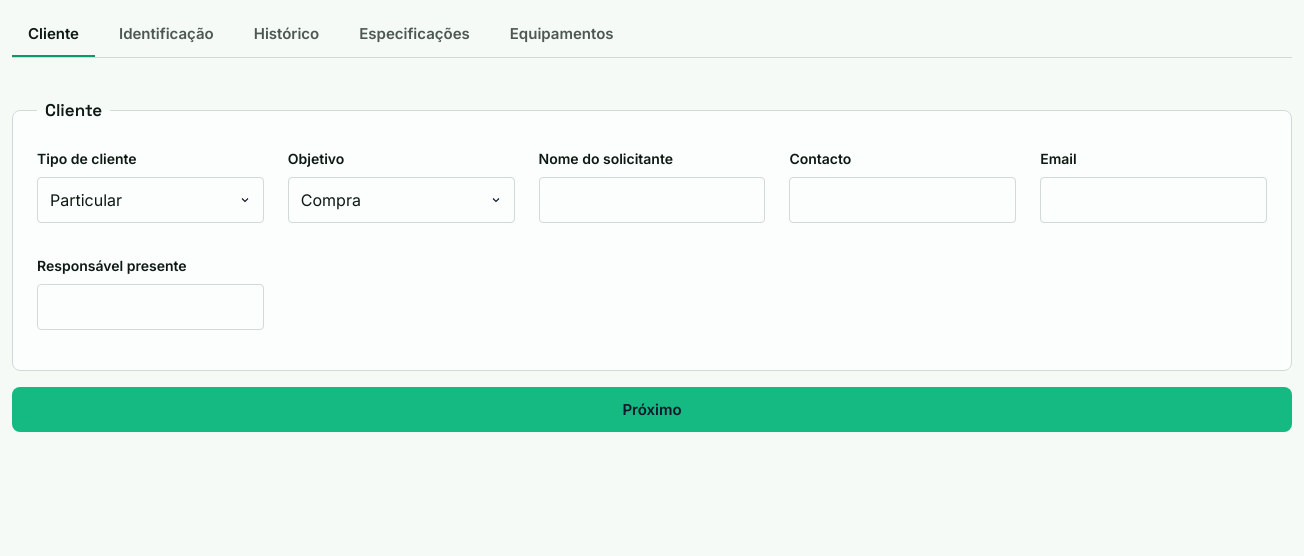
Scenario: NewInspectionForm › re-enables objetivo when switching back to particular
This screenshot has width=1304, height=556.
Step 1. Select "Stand" in the dropdown labelled "Tipo de cliente" → (150, 200), box [37,176,264,222]
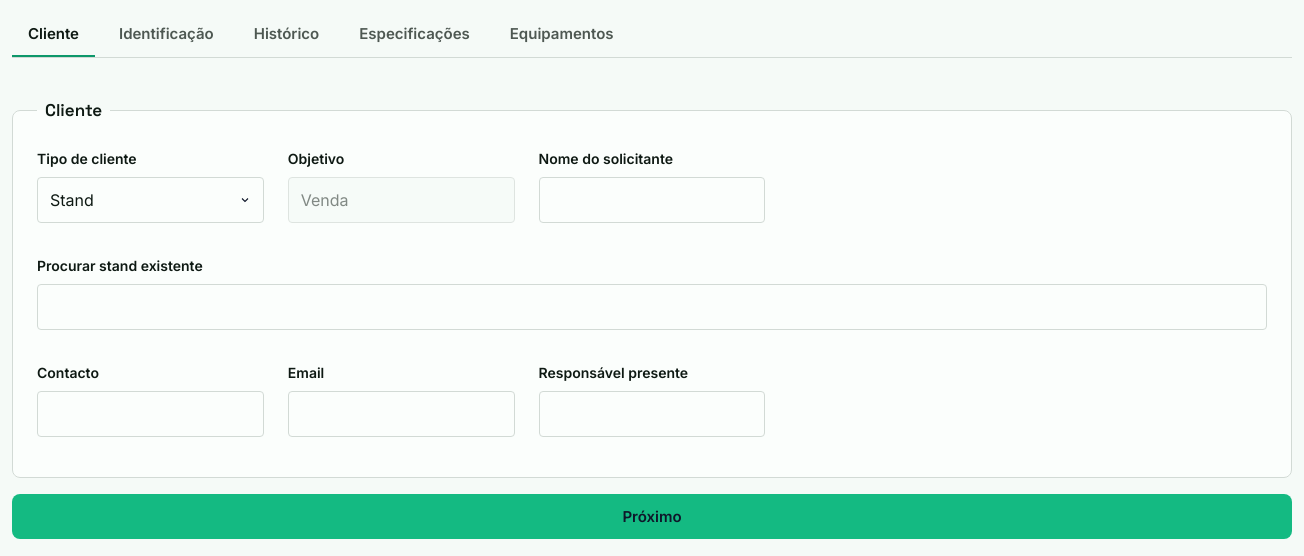
Step 2. Select "Particular" in the dropdown labelled "Tipo de cliente" → (150, 200), box [37,176,264,222]
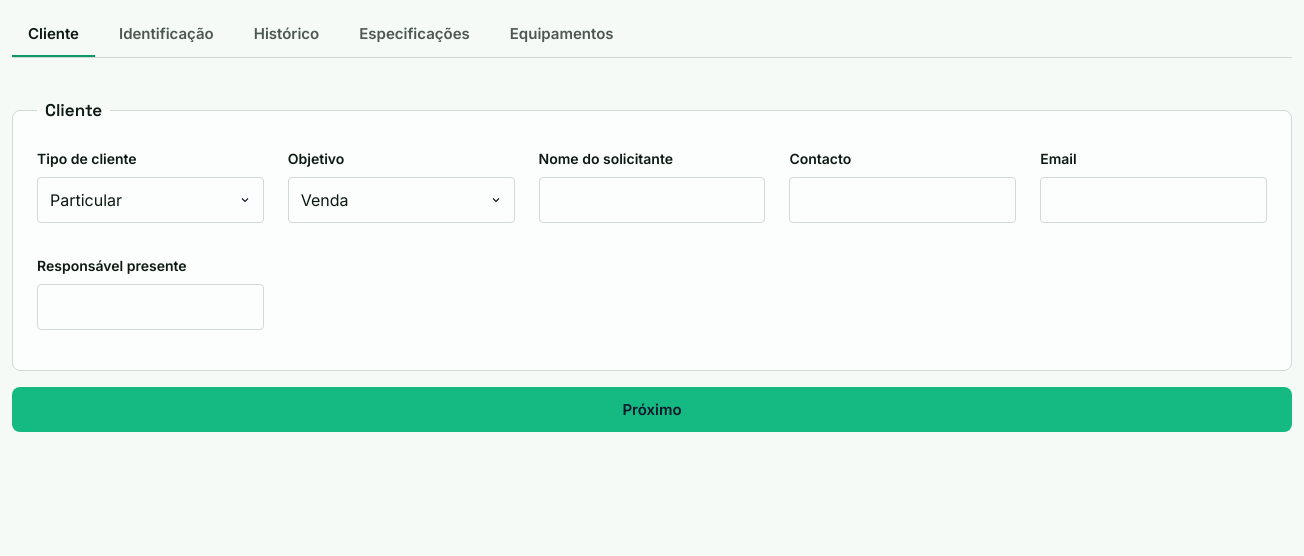
Now the dropdown labelled "Objetivo" is enabled, box [288,176,515,222]
